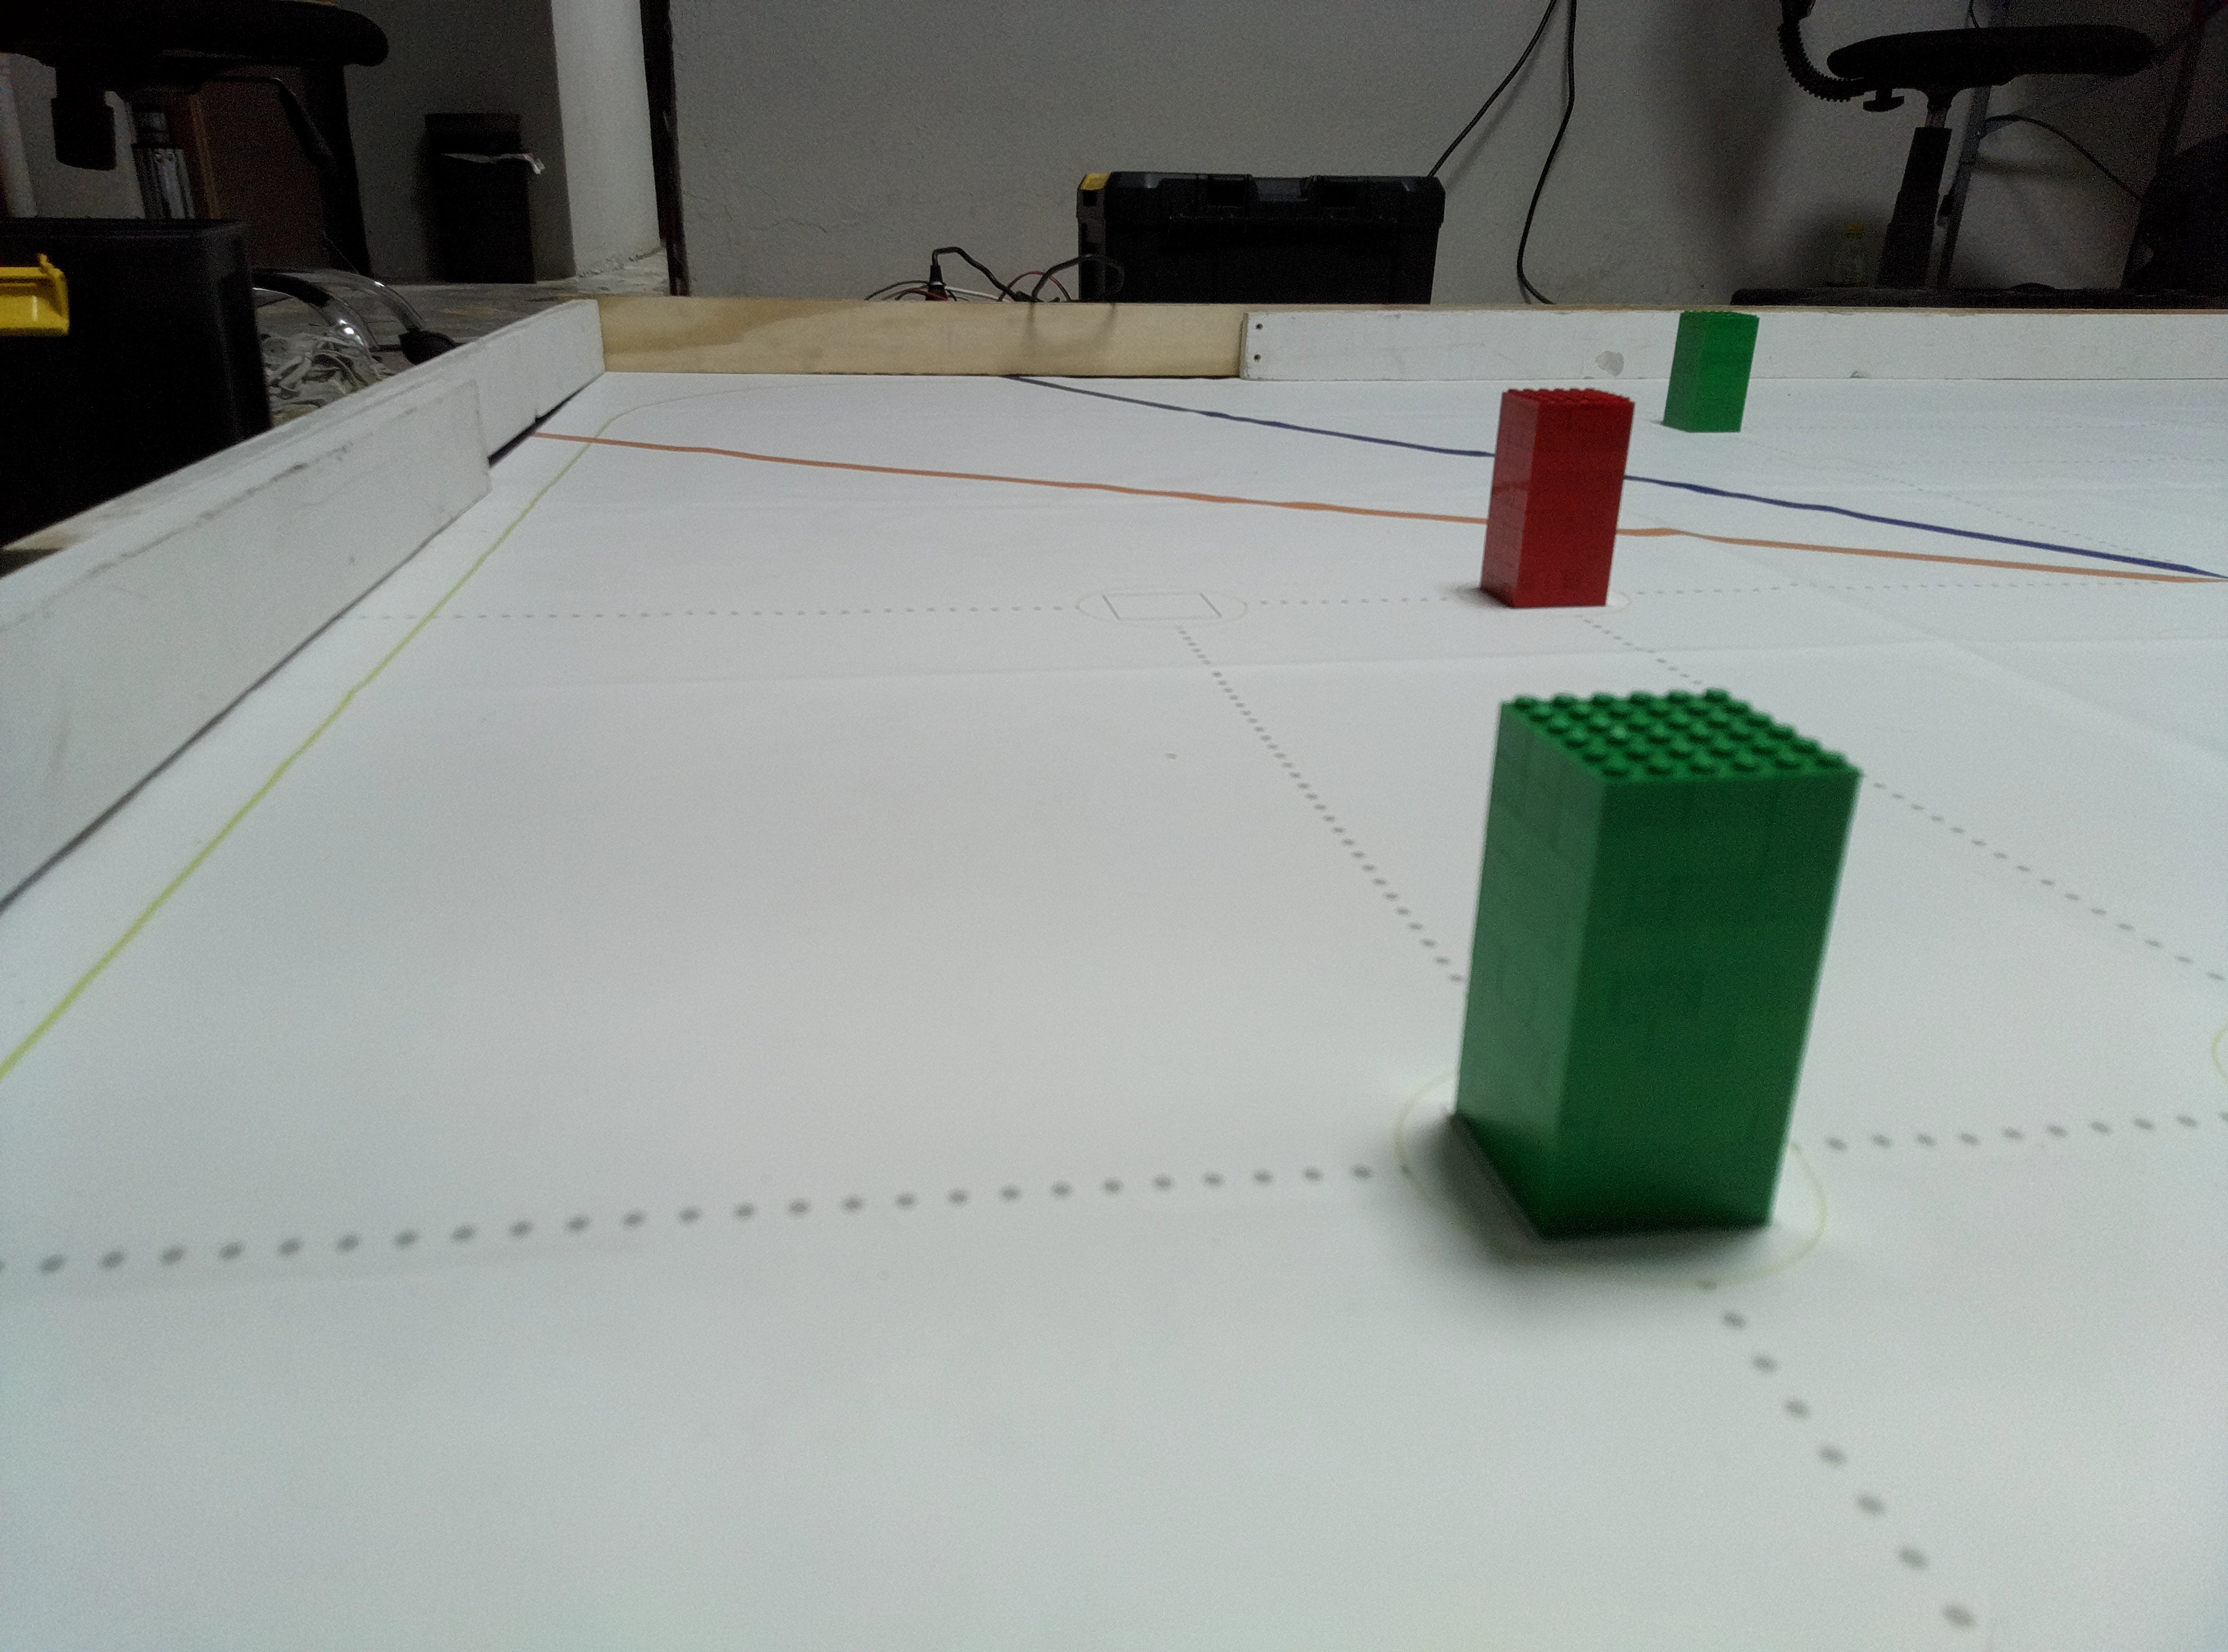greenbox: (1449, 684, 1871, 1241), (1659, 307, 1761, 436)
redbox: (1478, 387, 1643, 611)
